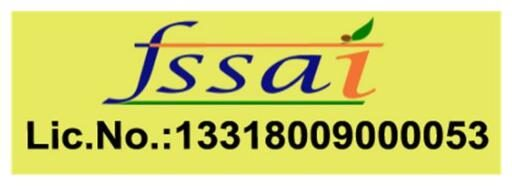fssai: (98, 17, 382, 106)
